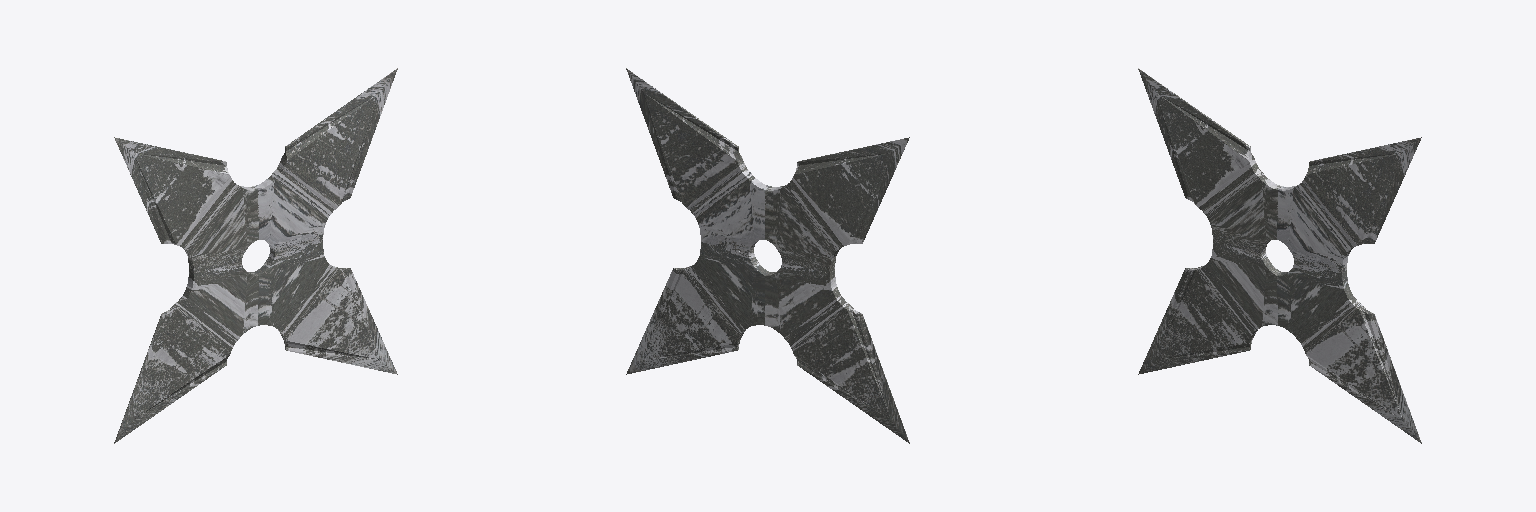
3 views of the same model, side by side, from view 1: azimuth 30°, elevation 25°; view 2: azimuth 150°, elevation 25°; view 3: azimuth 330°, elevation 25° (orthographic).
Parts seen in each view (by area): view 1: Cube_Cube.001; view 2: Cube_Cube.001; view 3: Cube_Cube.001.
Part boxes in pixels (x1,y1,x2,y2): Cube_Cube.001: (114,68,397,443); Cube_Cube.001: (626,68,909,443); Cube_Cube.001: (1138,68,1421,443).
Bounding box in the file's own units: 8.67 × 8.95 × 0.2662.
1 materials, 1 textured.